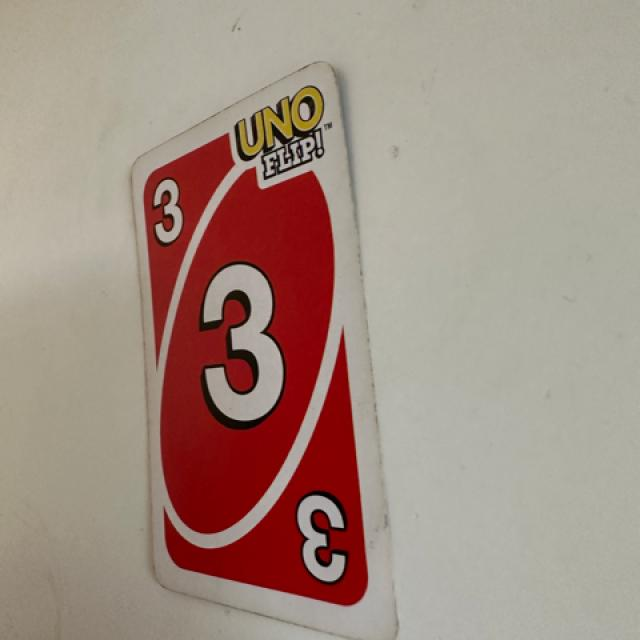lred-3: (142, 163, 198, 257)
